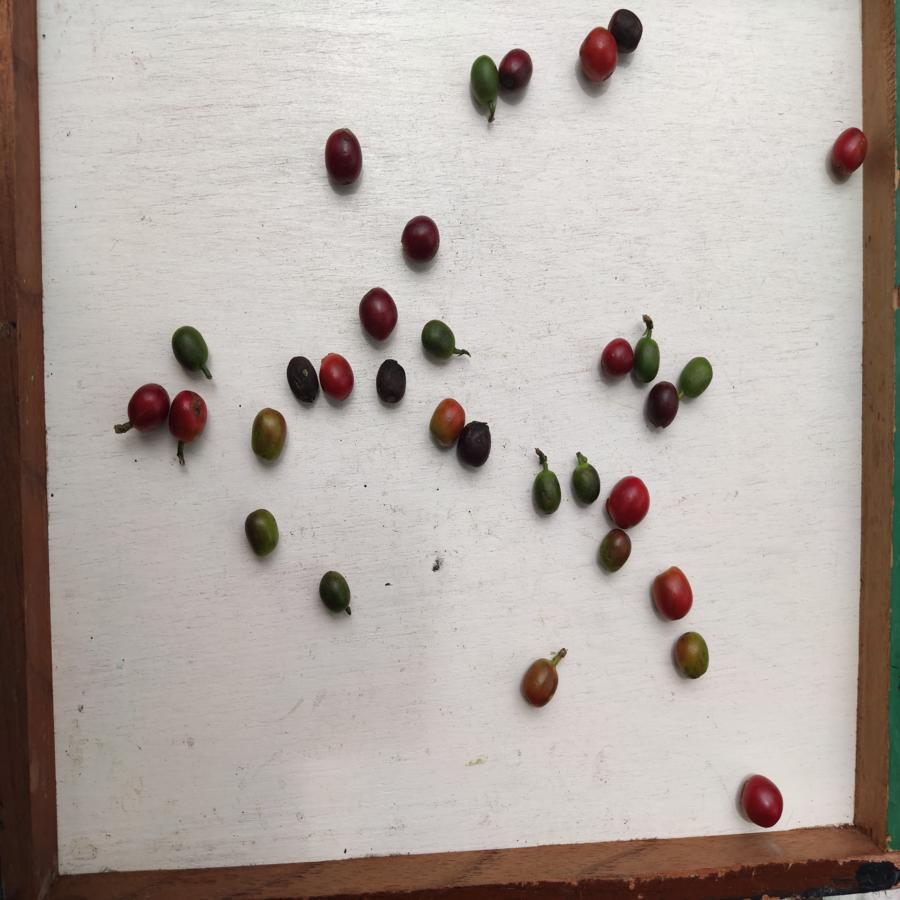Inmaduro: (171, 324, 211, 373), (468, 53, 501, 106), (418, 319, 458, 361), (531, 469, 565, 518), (677, 355, 714, 398), (319, 567, 351, 615), (631, 334, 662, 383), (569, 459, 601, 506)
Maduro: (651, 567, 696, 624), (740, 772, 785, 829), (607, 475, 654, 528), (578, 27, 619, 83), (127, 380, 170, 432), (165, 392, 208, 441), (830, 126, 870, 176), (320, 351, 357, 399)
Pinton: (250, 406, 288, 465), (242, 504, 283, 557), (672, 630, 711, 681), (521, 657, 559, 708), (598, 528, 632, 574), (429, 398, 459, 447)
Sobremaduro: (324, 126, 364, 186), (358, 286, 400, 340), (400, 216, 441, 263), (285, 355, 320, 405), (458, 419, 493, 467), (375, 357, 409, 406), (499, 47, 534, 93), (610, 8, 642, 56), (647, 382, 679, 429), (601, 335, 633, 380)
